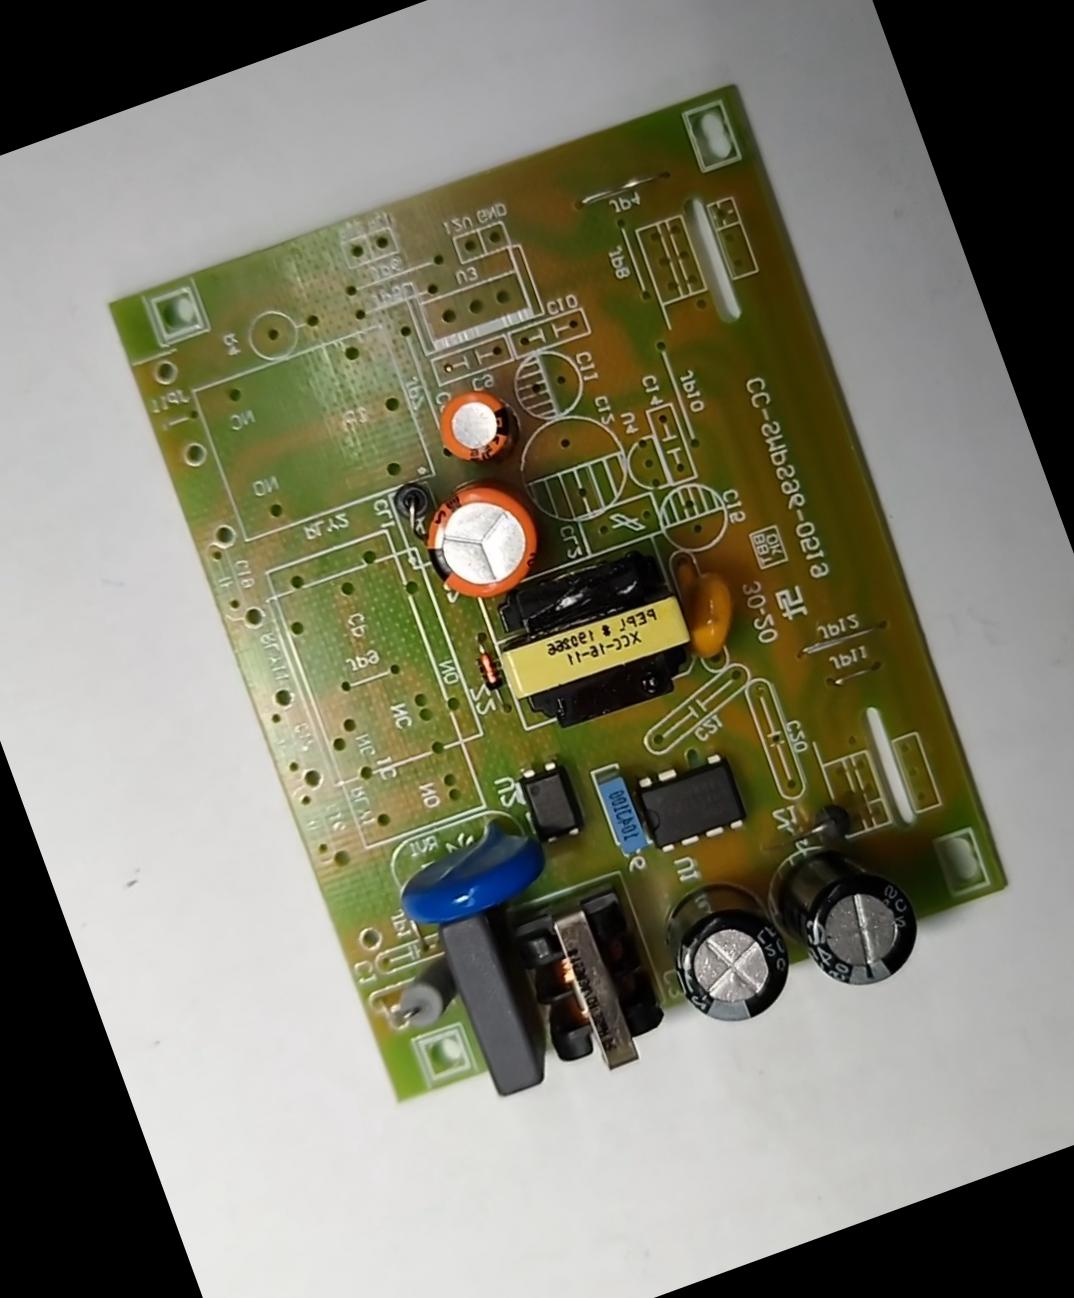Cap1: (411, 465, 551, 611)
Cap2: (425, 373, 522, 471)
Cap3: (645, 858, 809, 1037)
Cap4: (757, 812, 938, 1009)
MOSFET: (631, 747, 748, 861)
Mov: (381, 798, 560, 937)
Resistor: (383, 955, 465, 1038)
Transformer: (473, 527, 713, 744), (492, 871, 683, 1097)
